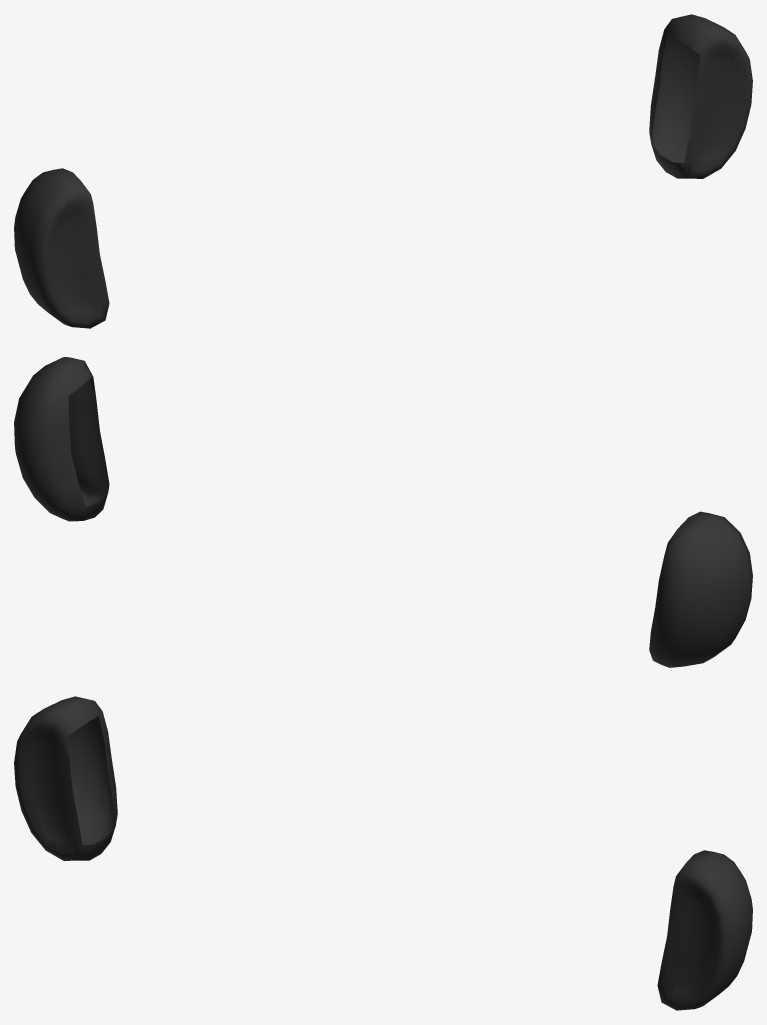
Rendered from Ears_16.glb.
3 views of the same model, one above another, from view 1: azimuth 30°, elevation 25°; view 2: azimuth 150°, elevation 25°; view 3: azimuth 330°, elevation 25° (orthographic).
Visible parts, largest first — view 1: Ears_16; view 2: Ears_16; view 3: Ears_16.
Boxes of the visible parts, left/top/right/bottom form: Ears_16: left=14, top=14, right=752, bottom=328; Ears_16: left=14, top=357, right=752, bottom=667; Ears_16: left=14, top=696, right=752, bottom=1010.
Size of the model in its own units: 0.6554 by 0.1295 by 0.076.
1 material, 1 textured.
